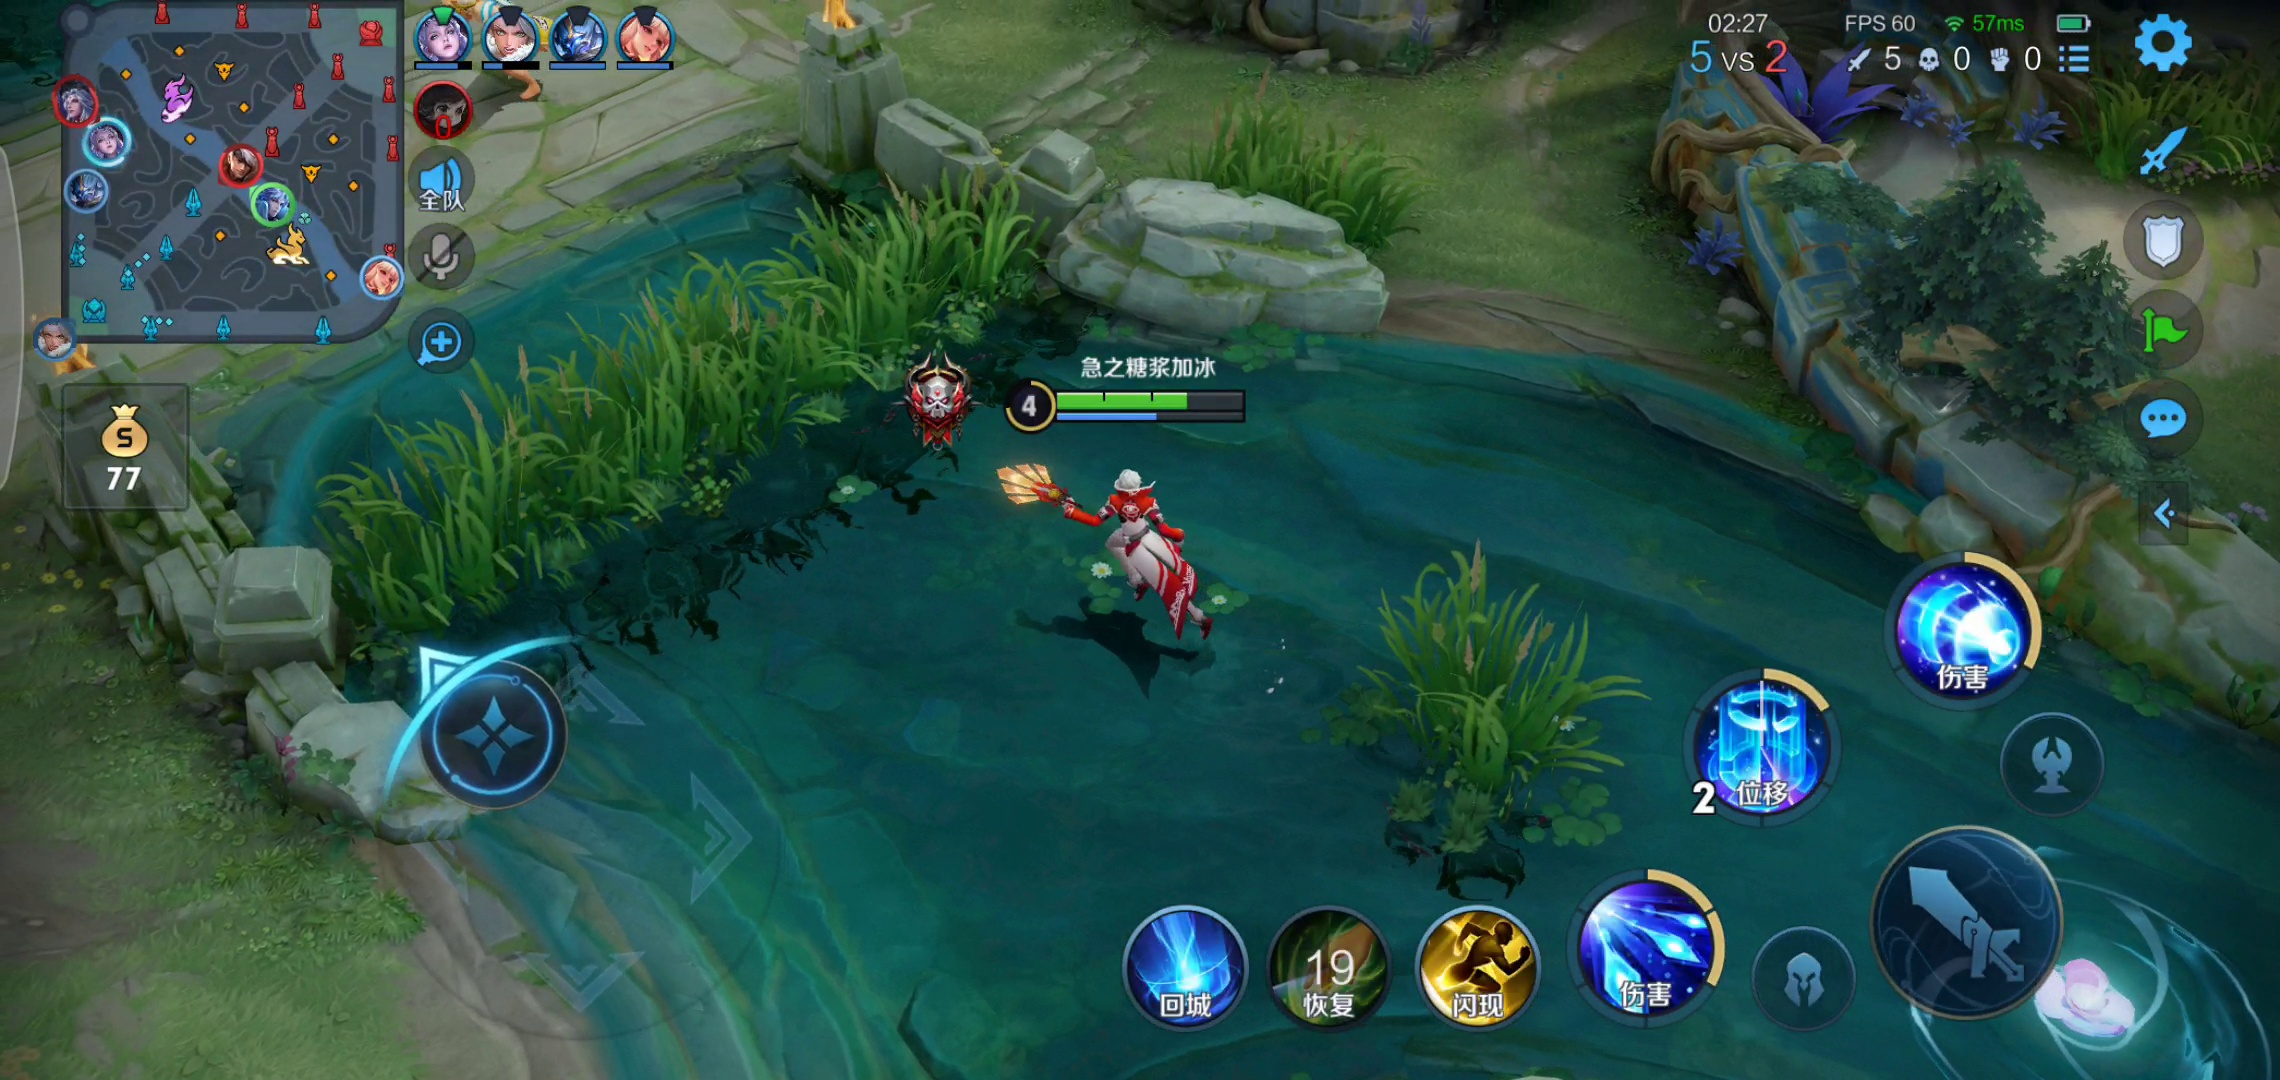grass: (339, 186, 1043, 631), (1341, 565, 1618, 858), (1152, 115, 1437, 257), (2079, 70, 2280, 206)
hero: (1018, 449, 1229, 657)
